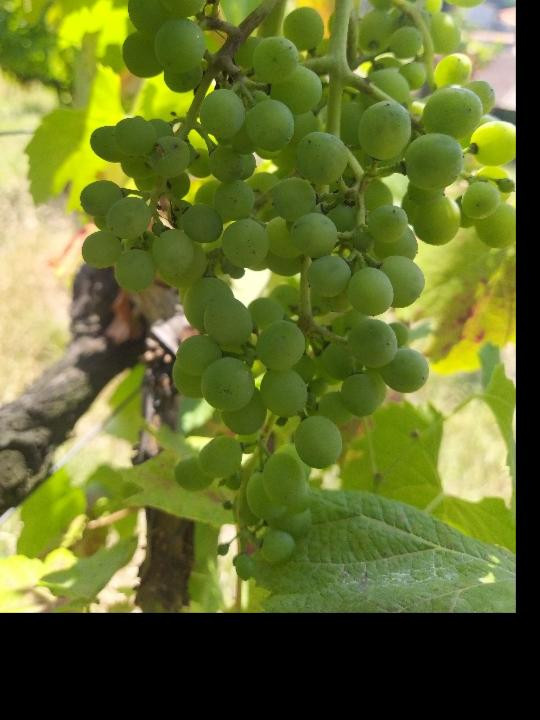grape: (79, 0, 513, 586)
